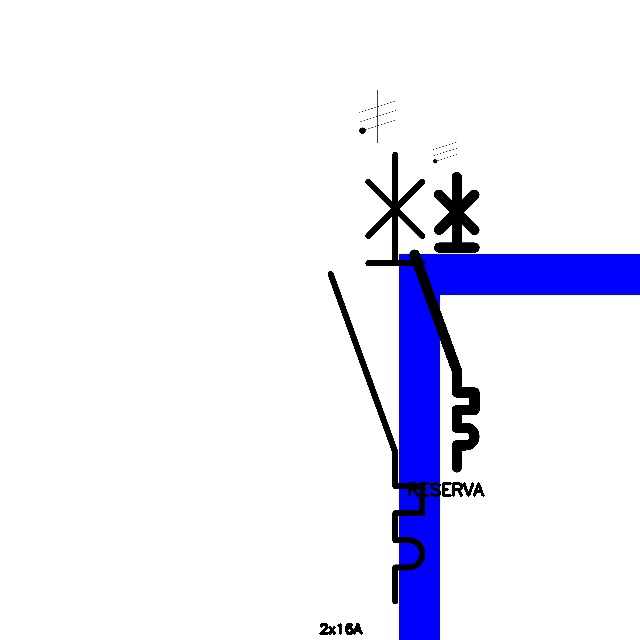interruptor_termomagnetico: (319, 143, 434, 613), (407, 169, 482, 475)
